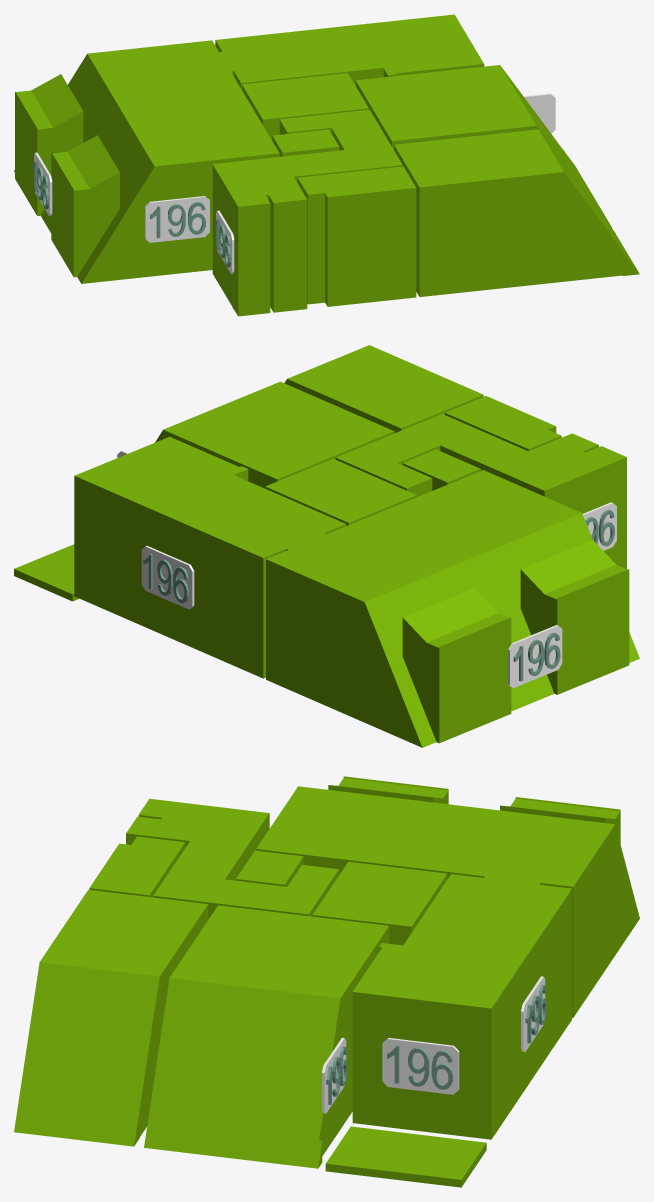
3 renders of one model, top to bottom at view 1: azimuth 30°, elevation 25°; view 2: azimuth 150°, elevation 25°; view 3: azimuth 270°, elevation 25°, orthographic. The views are drawn at different scales.
Parts seen in each view (by area): view 1: g_0, g_3, g_5, g_7, g_1, g_2, g_4, g_28, g_6, g_20, g_24, g_16; view 2: g_0, g_1, g_5, g_2, g_3, g_4, g_7, g_8, g_24, g_32, g_6, g_16; view 3: g_2, g_1, g_0, g_3, g_5, g_8, g_4, g_7, g_12, g_6, g_32, g_20.
Part boxes in pixels (x1,y1,x2,y2): g_0: [14, 40, 279, 283]; g_3: [394, 129, 639, 296]; g_5: [212, 109, 402, 316]; g_7: [297, 166, 416, 306]; g_1: [215, 14, 484, 89]; g_2: [355, 65, 611, 227]; g_4: [242, 73, 368, 140]; g_28: [145, 196, 209, 242]; g_6: [272, 129, 339, 156]; g_20: [523, 93, 555, 133]; g_24: [34, 152, 52, 215]; g_16: [216, 210, 234, 273]; g_0: [266, 470, 639, 747]; g_1: [74, 436, 346, 678]; g_5: [335, 414, 626, 568]; g_2: [155, 381, 394, 488]; g_3: [284, 345, 483, 432]; g_4: [265, 458, 416, 525]; g_7: [445, 396, 561, 451]; g_8: [14, 544, 79, 601]; g_24: [508, 625, 562, 687]; g_32: [141, 546, 194, 609]; g_6: [402, 449, 480, 490]; g_16: [582, 502, 616, 550]; g_2: [144, 905, 389, 1168]; g_1: [352, 874, 571, 1139]; g_0: [256, 776, 639, 1017]; g_3: [14, 889, 208, 1146]; g_5: [126, 798, 338, 919]; g_8: [325, 1126, 486, 1187]; g_4: [312, 861, 447, 945]; g_7: [89, 836, 185, 897]; g_12: [382, 1038, 459, 1094]; g_6: [236, 850, 303, 886]; g_32: [521, 976, 545, 1052]; g_20: [322, 1037, 346, 1113].
Size of the model in its own units: 12.42 by 2.71 by 11.01.
